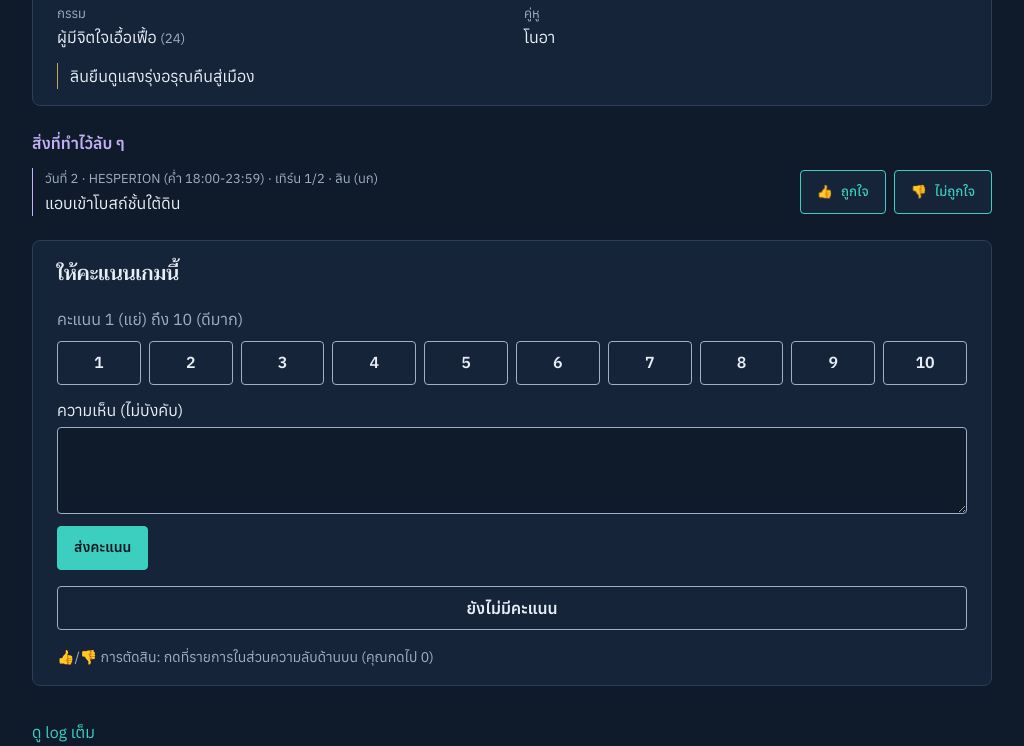
it: C2 every scenario shows its state › ended: the end page shows the end and everyone's secrets, and the rating form sends on the mock
This screenshot has width=1024, height=746.
(page scrolled)
Expected: the text "ยังไม่มีคะแนน" is shown, 57,586 -> 967,630
What coordinates should you click on to do the following:
click the radio button labelled "9"
I would click on:
 (833, 362)
Its box is 791,340 -> 875,384.
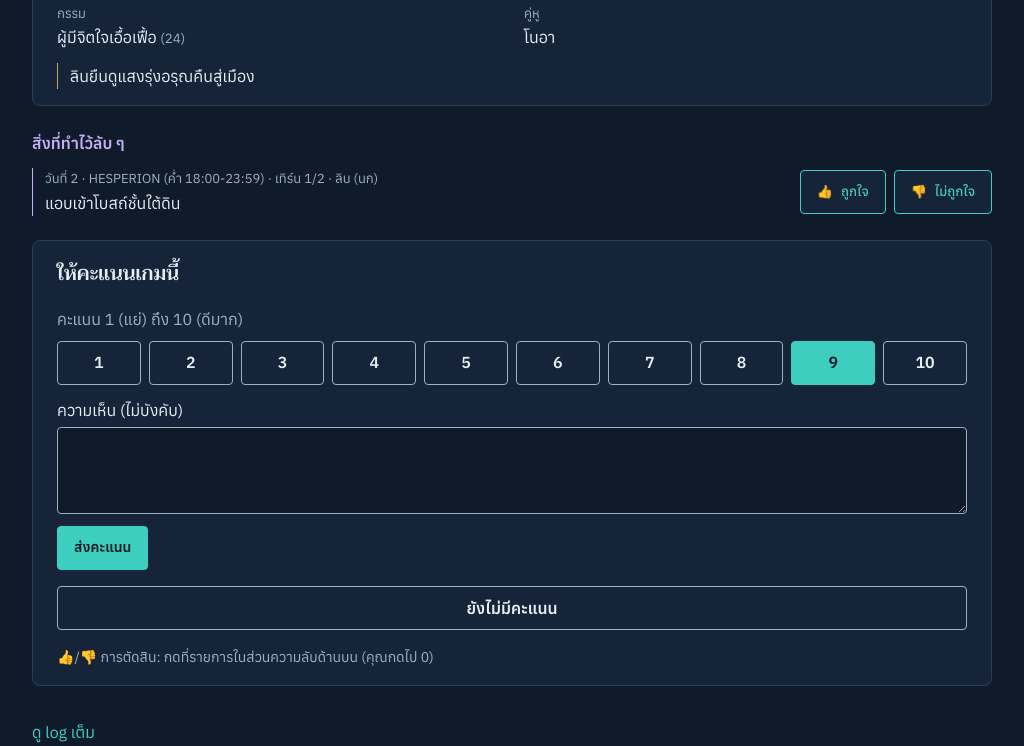
What coordinates should you click on to do the following:
click the button "ส่งคะแนน"
I would click on:
 (103, 548)
Its box is 57,526 -> 148,570.
(page scrolled)
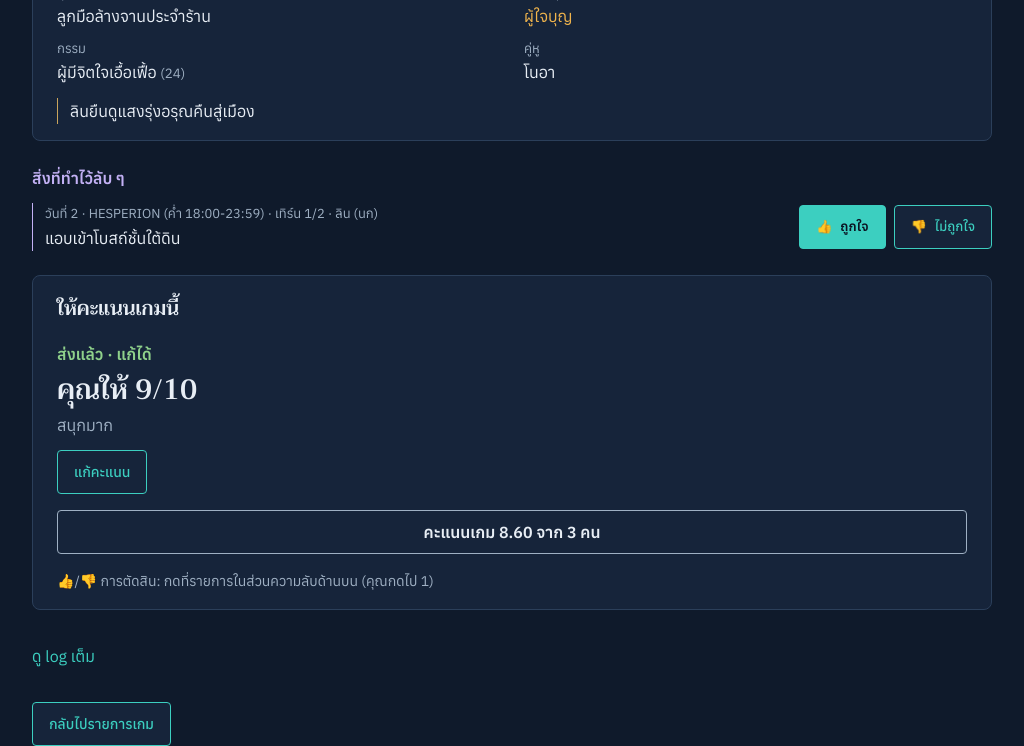
Expected: the text "ส่งแล้ว · แก้ได้" is shown, 57,341 -> 152,368
Expected: the text "คะแนนเกม 8.60 จาก 3 คน" is shown, 57,510 -> 967,554
